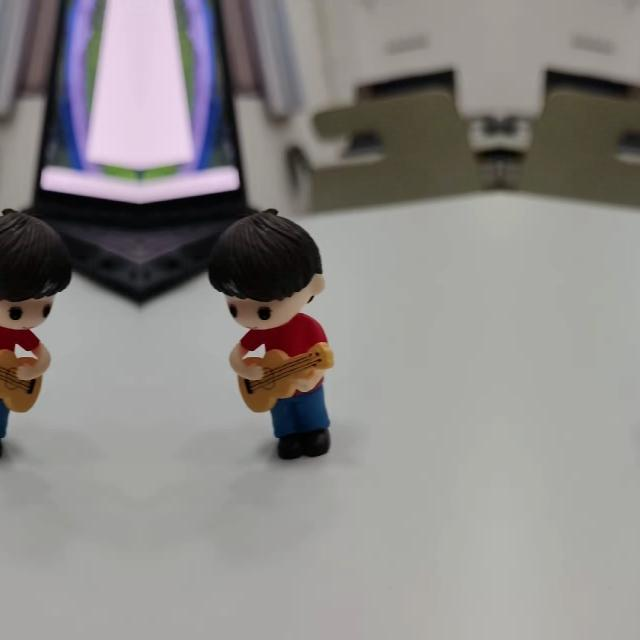man cloth: (234, 309, 328, 366), (0, 309, 46, 366)
man head: (200, 202, 324, 334), (0, 201, 79, 334)
trousers: (257, 378, 337, 464), (0, 377, 23, 464)
